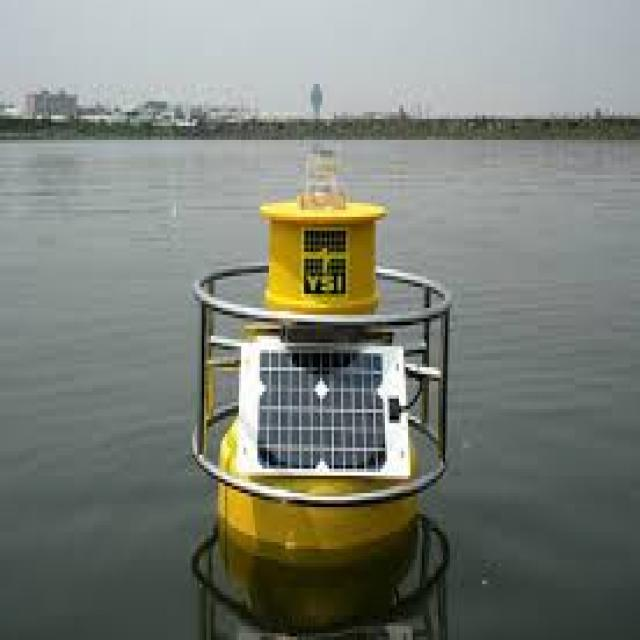marque: (181, 79, 460, 557)
